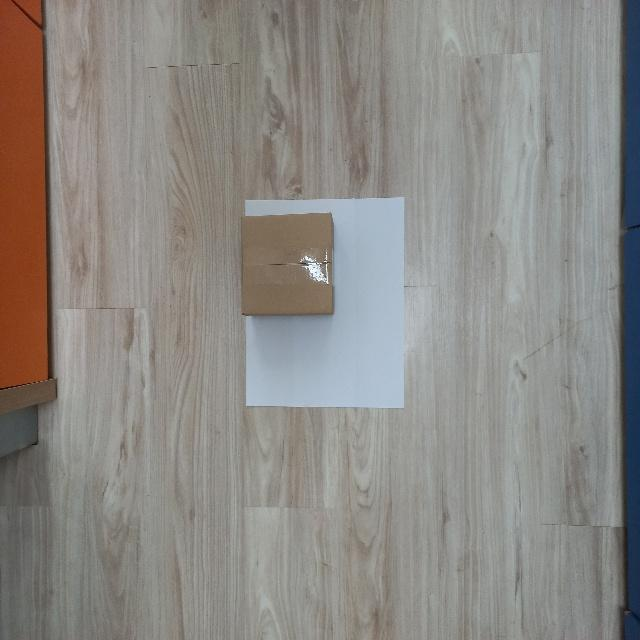box: (234, 210, 340, 318)
